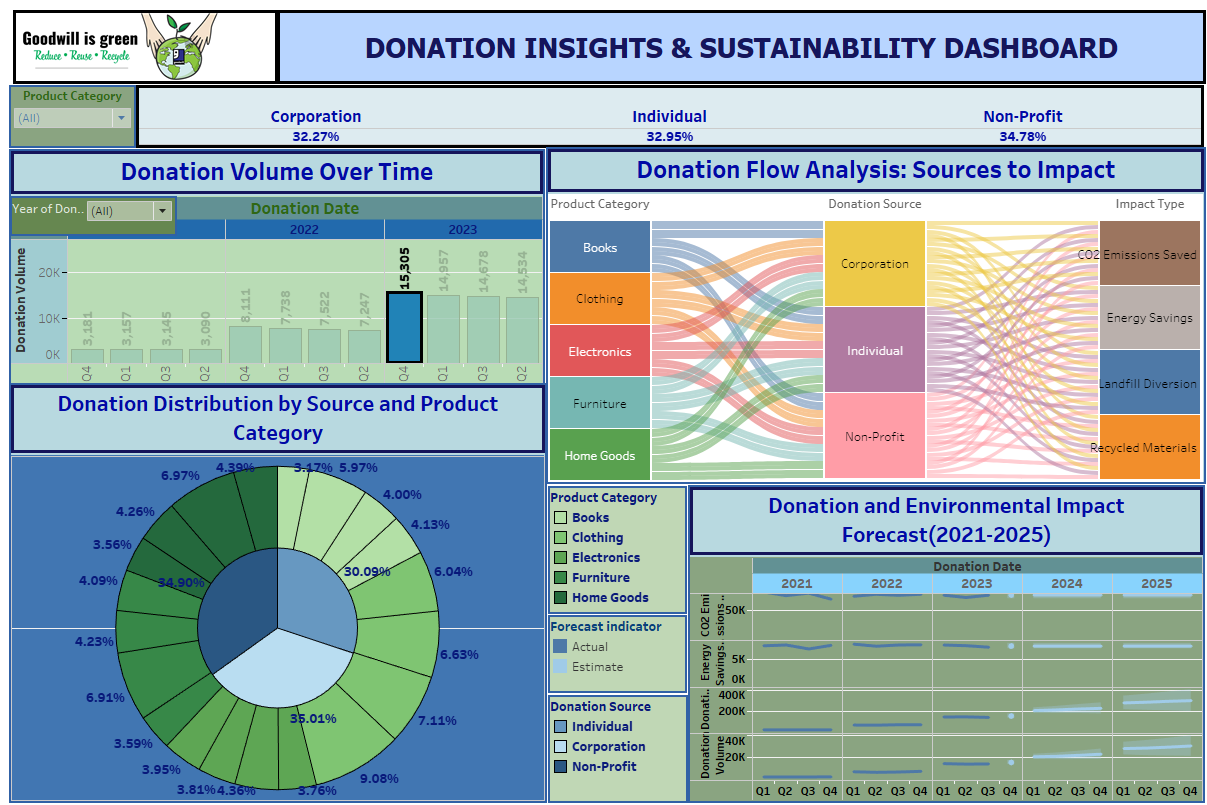

What the dashboard file says about the page in this screenshot:
{"tool":"tableau","page":{"name":"DONATION INSIGHTS & SUSTAINABILITY DASHBOARD","canvas":[1200,800],"ordinal":0},"visuals":[{"type":"image","param":"Image/Goodwill-is-Green-corp-header_April2019.png","box":[4.8,3,265.2,74]},{"type":"text","box":[269,3,928,74]},{"type":"filter","title":"KPI","param":"[federated.1x8vgv51uombef15qczje0yp7r5e].[none:Product_Category:nk]","box":[1.2,78,127.2,63]},{"type":"worksheet","title":"KPI","mark":"Automatic","cols":["Donation_Source"],"box":[128.4,78,1068,63]},{"type":"worksheet","title":"Donation Flow Analysis: Sources to Impact","box":[538,140,657,337]},{"type":"worksheet","title":"Donation Volume Over Time","mark":"Bar","rows":["Donation_Volume"],"cols":["Donation_Date","Donation_Date"],"box":[1.2,142,536.4,237]},{"type":"filter","title":"Donation Volume Over Time","param":"[federated.1x8vgv51uombef15qczje0yp7r5e].[yr:Donation_Date:ok]","box":[2,189,154,21]},{"type":"worksheet","title":"Donation Distribution by Source and Product Category ","mark":"Pie","rows":["Calculation_153122400252481540","Inner circle (copy)_153122400252661765"],"box":[1.2,376,537.6,420]},{"type":"worksheet","title":"Donation and Environmental Impact Forecast (2021-2025)","mark":"Automatic","rows":["CO2_Emissions_Saved_kg","Energy_Savings_kWh","Donation_Value_USD","Donation_Volume"],"cols":["Donation_Date","Donation_Date"],"box":[680.4,478,517.2,318]},{"type":"legend","title":"Donation Distribution by Source and Product Category ","param":"[federated.1x8vgv51uombef15qczje0yp7r5e].[none:Product_Category:nk]","box":[540,479,139.2,128]},{"type":"legend","title":"Donation and Environmental Impact Forecast (2021-2025)","param":"[federated.1x8vgv51uombef15qczje0yp7r5e].[none:Forecast Indicator:nk]","box":[540,608,139.2,78]},{"type":"legend","title":"Donation Distribution by Source and Product Category ","param":"[federated.1x8vgv51uombef15qczje0yp7r5e].[none:Donation_Source:nk]","box":[540,688,140.4,108]}]}

Visuals, with their boxes in screenshot pixels (x1, y1, x2, y2), scaled from the page's 1200x800 canvas onto the 1207x805 screenshot:
image: bbox(5, 3, 272, 77)
text: bbox(271, 3, 1204, 77)
"KPI" filter: bbox(1, 78, 129, 142)
"KPI" worksheet: bbox(129, 78, 1203, 142)
"Donation Flow Analysis: Sources to Impact" worksheet: bbox(541, 141, 1202, 480)
"Donation Volume Over Time" worksheet (Bar marks): bbox(1, 143, 541, 381)
"Donation Volume Over Time" filter: bbox(2, 190, 157, 211)
"Donation Distribution by Source and Product Category " worksheet (Pie marks): bbox(1, 378, 542, 801)
"Donation and Environmental Impact Forecast (2021-2025)" worksheet: bbox(684, 481, 1205, 801)
"Donation Distribution by Source and Product Category " legend: bbox(543, 482, 683, 611)
"Donation and Environmental Impact Forecast (2021-2025)" legend: bbox(543, 612, 683, 690)
"Donation Distribution by Source and Product Category " legend: bbox(543, 692, 684, 801)
